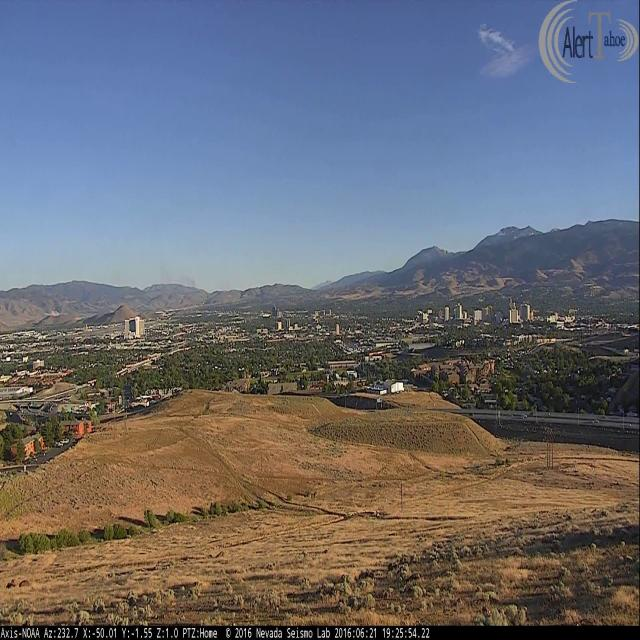smoke: (158, 264, 198, 289)
